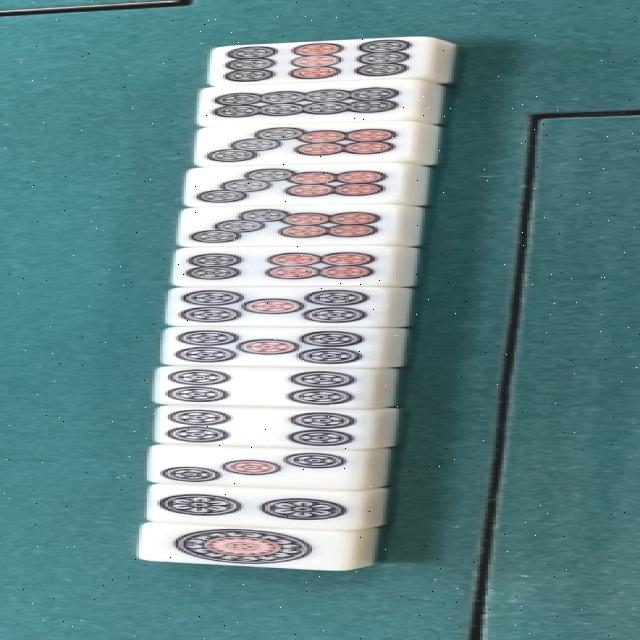circles_1: (147, 523, 351, 572)
circles_2: (147, 488, 370, 528)
circles_3: (139, 445, 383, 486)
circles_4: (165, 366, 404, 412), (158, 409, 394, 444)
circles_5: (147, 280, 404, 325), (154, 328, 398, 374)
circles_6: (189, 243, 420, 286)
circles_7: (173, 204, 430, 248), (194, 124, 428, 165), (178, 166, 420, 205)
circles_8: (215, 80, 422, 126)
circles_9: (204, 39, 456, 92)
